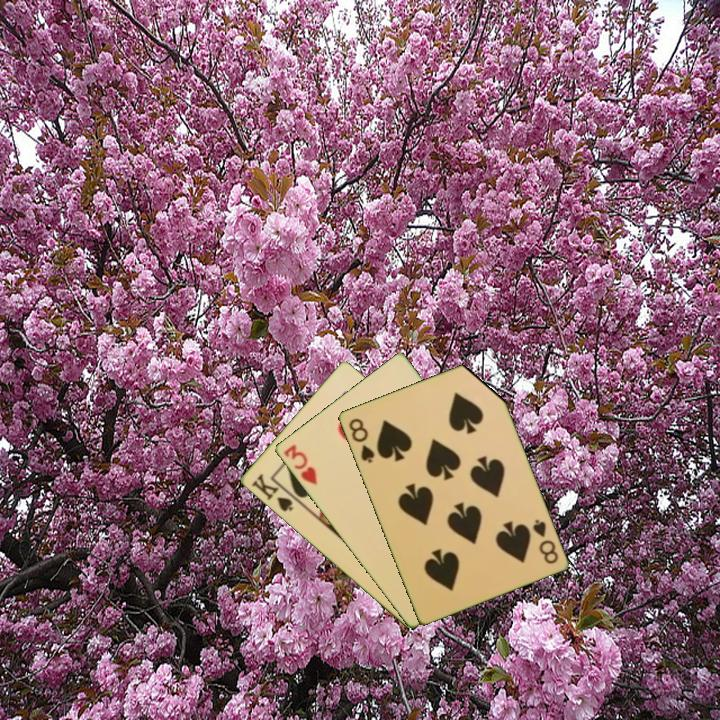3h: (280, 440, 320, 488)
8s: (345, 414, 377, 466), (529, 515, 561, 567)
Ks: (248, 470, 300, 515)
